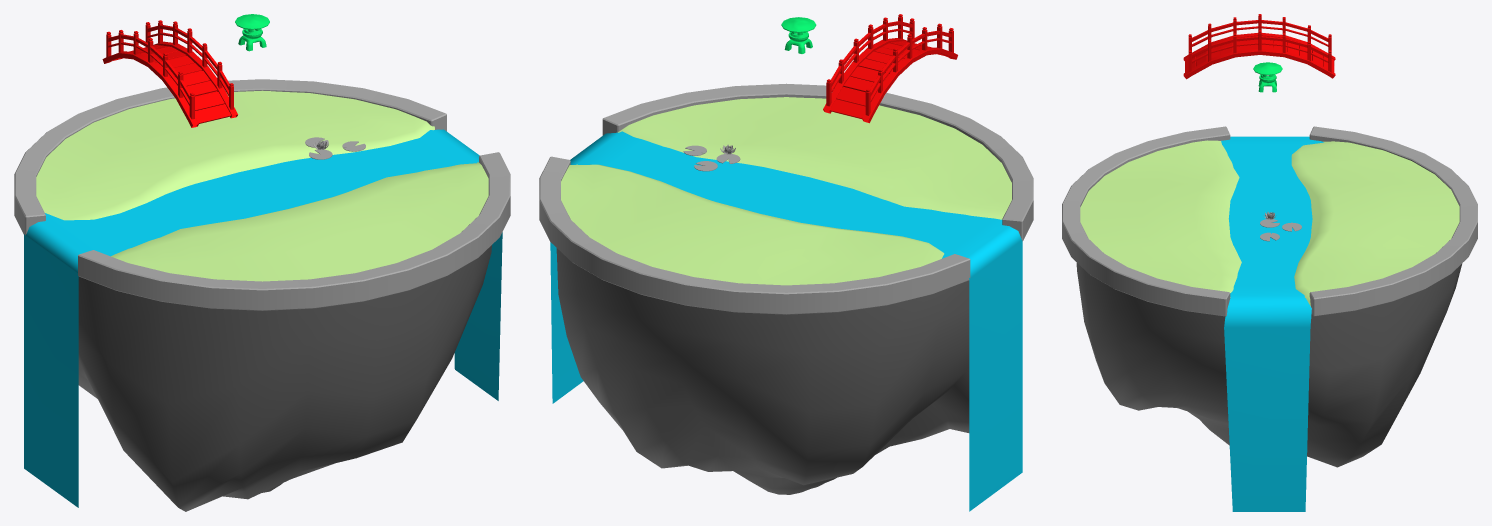
Rendered from SM_Envirment.fbx.
3 views of the same model, side by side, from view 1: azimuth 30°, elevation 25°; view 2: azimuth 150°, elevation 25°; view 3: azimuth 270°, elevation 25° (orthographic). The views are drawn at different scales.
Visible parts, largest first — view 1: SM_BigRock1, SM_Ground1, SM_Water1, SM_Fense1, SM_Bridge, SM_Lantern; view 2: SM_BigRock1, SM_Ground1, SM_Water1, SM_Fense1, SM_Bridge, SM_Lantern; view 3: SM_Ground1, SM_BigRock1, SM_Water1, SM_Fense1, SM_Bridge, SM_Lantern.
Boxes of the visible parts, left/top/right/bottom form: SM_BigRock1: left=78, top=245, right=491, bottom=511; SM_Ground1: left=36, top=90, right=488, bottom=281; SM_Water1: left=24, top=129, right=502, bottom=507; SM_Fense1: left=14, top=79, right=510, bottom=310; SM_Bridge: left=102, top=20, right=237, bottom=127; SM_Lantern: left=235, top=14, right=269, bottom=51; SM_BigRock1: left=556, top=248, right=969, bottom=494; SM_Ground1: left=561, top=97, right=1011, bottom=285; SM_Water1: left=550, top=131, right=1022, bottom=511; SM_Fense1: left=539, top=83, right=1033, bottom=314; SM_Bridge: left=823, top=14, right=957, bottom=123; SM_Lantern: left=781, top=17, right=816, bottom=53; SM_Ground1: left=1080, top=140, right=1459, bottom=306; SM_BigRock1: left=1076, top=262, right=1462, bottom=467; SM_Water1: left=1221, top=136, right=1323, bottom=511; SM_Fense1: left=1062, top=126, right=1477, bottom=316; SM_Bridge: left=1183, top=14, right=1335, bottom=79; SM_Lantern: left=1253, top=62, right=1282, bottom=92.
Bounding box in the file's own units: 20.21 × 21.63 × 20.43.
